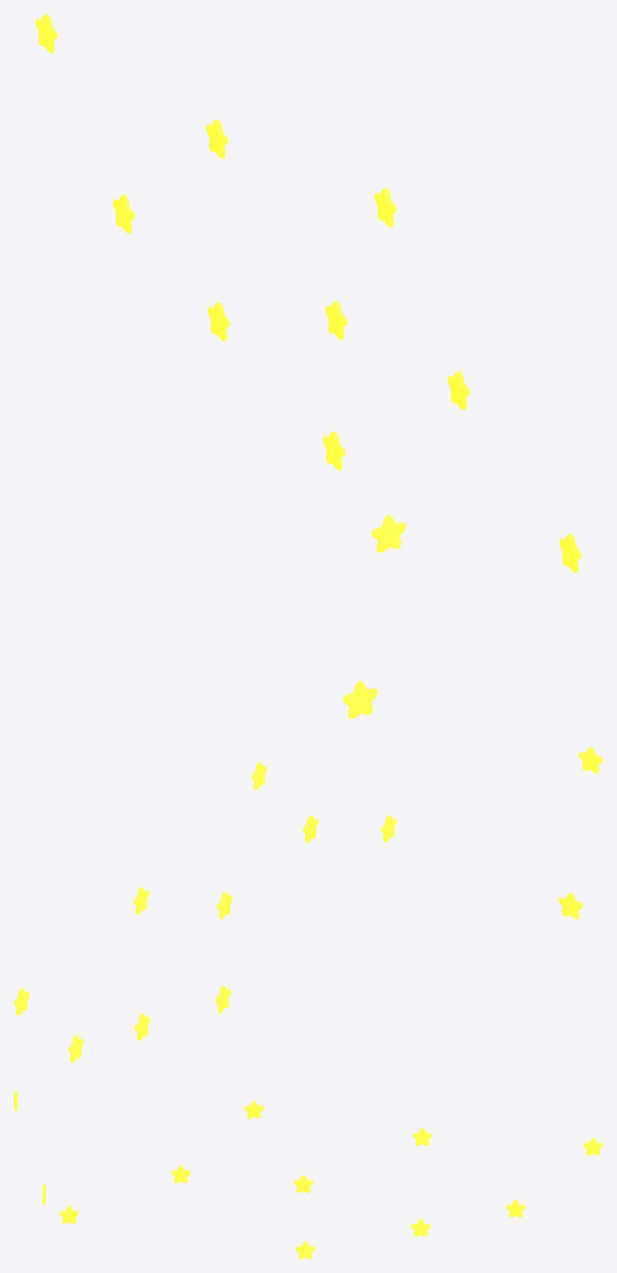
The model's file is star1.fbx.
The picture shows the model from 3 angles, top to bottom: view 1: azimuth 30°, elevation 25°; view 2: azimuth 150°, elevation 25°; view 3: azimuth 270°, elevation 25°; orthographic projection. The views are drawn at different scales.
Size of the model in its own units: 39.95 by 47.49 by 160.
